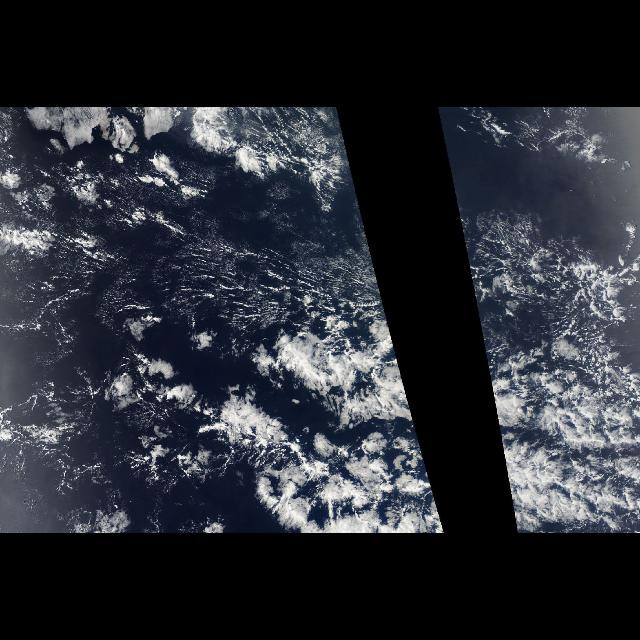Fish: (222, 288, 443, 526), (472, 288, 636, 526)
Sugar: (124, 217, 386, 326)
